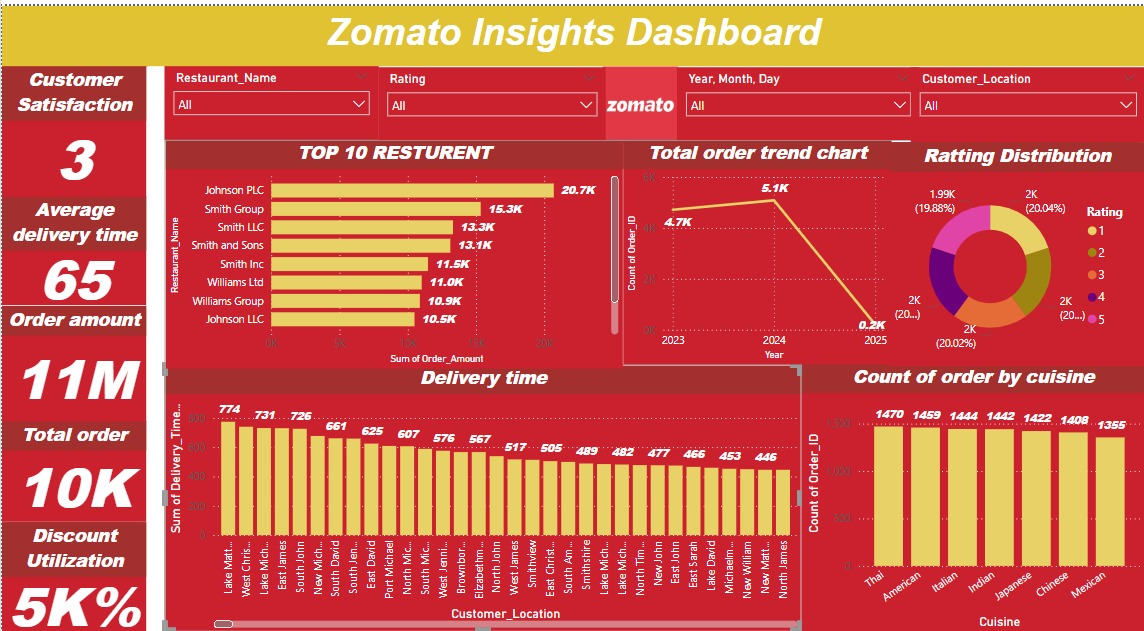

The dashboard page shown, as its layout file describes it:
{"tool":"powerbi","page":{"name":"Page 1","canvas":[1307,718],"ordinal":0},"visuals":[{"type":"actionButton","box":[0,0,100,40],"z":0},{"type":"card","title":"Total order","fields":{"Values":["CountNonNull(Sheet1.Order_ID)"]},"box":[0,474.5,165,115.2],"z":0,"group":"g1"},{"type":"lineChart","title":"Total order trend chart","fields":{"Category":["Sheet1.Order_Date.Variation.Date Hierarchy.Year"],"Y":["CountNonNull(Sheet1.Order_ID)"]},"box":[709.6,152.7,306.2,257.1],"z":1000,"group":"g2"},{"type":"card","title":"Average delivery time ","fields":{"Values":["Avg(Sheet1.Delivery_Time_Minutes)"]},"box":[0,217.1,165,125.2],"z":1000,"group":"g1"},{"type":"columnChart","title":"Delivery time","fields":{"Category":["Sheet1.Customer_Location"],"Y":["Sum(Sheet1.Delivery_Time_Minutes)"]},"box":[185.9,410.3,728.6,305.7],"z":1000,"group":"g3"},{"type":"slicer","fields":{"Values":["Sheet1.Restaurant_Name"]},"box":[185.7,68.6,244.3,84.3],"z":2000},{"type":"clusteredBarChart","title":"TOP 10 RESTURENT","fields":{"Category":["Sheet1.Restaurant_Name"],"Y":["Sum(Sheet1.Order_Amount)"]},"box":[187.3,152.7,522.3,261.4],"z":3000,"group":"g2"},{"type":"card","title":"Order amount","fields":{"Values":["Sum(Sheet1.Order_Amount)"]},"box":[0,342.2,165,132.3],"z":3000,"group":"g1"},{"type":"columnChart","title":"Count of order by cuisine","fields":{"Category":["Sheet1.Cuisine"],"Y":["CountNonNull(Sheet1.Order_ID)"]},"box":[915,408.3,391.7,308.3],"z":3000,"group":"g3"},{"type":"group","id":"g1","title":"Group 1","box":[0,68.3,165,650],"z":4000},{"type":"card","title":"Customer Satisfaction ","fields":{"Values":["Avg(Sheet1.Rating)"]},"box":[0,68.3,165,149.3],"z":4000,"group":"g1"},{"type":"image","box":[584.3,64.3,290,97.1],"z":5000},{"type":"card","title":"Discount Utilization","fields":{"Values":["Sheet1.Discount utilization"]},"box":[0,589.7,165,128],"z":5000,"group":"g1"},{"type":"group","id":"g2","title":"Group 2","box":[187.3,152.7,828.6,261.4],"z":6000,"group":"g3"},{"type":"group","id":"g3","title":"Group 3","box":[185.9,152.7,1120.8,564],"z":6001},{"type":"slicer","fields":{"Values":["Sheet1.Rating"]},"box":[430,70,260,82.9],"z":6002},{"type":"slicer","fields":{"Values":["Sheet1.Review_Date.Variation.Date Hierarchy.Year","Sheet1.Review_Date.Variation.Date Hierarchy.Month","Sheet1.Review_Date.Variation.Date Hierarchy.Day"]},"box":[771.4,70,277.1,82.9],"z":6003},{"type":"slicer","fields":{"Values":["Sheet1.Customer_Location"]},"box":[1038.6,70,268.6,85.7],"z":6004},{"type":"textbox","title":"ZOMATO","box":[1.7,5,165,63.3],"z":6005},{"type":"donutChart","title":"Ratting Distribution","fields":{"Y":["CountNonNull(Sheet1.Order_ID)"],"Series":["Sheet1.Rating"]},"box":[1014.3,155.7,291.4,255.7],"z":6006},{"type":"textbox","title":"Zomato Insights Dashboard","box":[0,0,1305.7,68.6],"z":6007}]}

Visuals, with their boxes in screenshot pixels (x1, y1, x2, y2), scaled from the page's 1307x718 canvas onto the 1144x631 screenshot:
actionButton: [0,0,88,35]
"Total order" card: [0,417,144,518]
"Total order trend chart" lineChart: [621,134,889,360]
"Average delivery time " card: [0,191,144,301]
"Delivery time" columnChart: [163,361,800,629]
slicer - Sheet1.Restaurant_Name: [163,60,376,134]
"TOP 10 RESTURENT" clusteredBarChart: [164,134,621,364]
"Order amount" card: [0,301,144,417]
"Count of order by cuisine" columnChart: [801,359,1143,630]
"Group 1" group: [0,60,144,630]
"Customer Satisfaction " card: [0,60,144,191]
image: [511,57,765,142]
"Discount Utilization" card: [0,518,144,630]
"Group 2" group: [164,134,889,364]
"Group 3" group: [163,134,1143,630]
slicer - Sheet1.Rating: [376,62,604,134]
slicer - Sheet1.Review_Date.Variation.Date Hierarchy.Year x Sheet1.Review_Date.Variation.Date Hierarchy.Month: [675,62,918,134]
slicer - Sheet1.Customer_Location: [909,62,1143,137]
"ZOMATO" textbox: [1,4,146,60]
"Ratting Distribution" donutChart: [888,137,1143,362]
"Zomato Insights Dashboard" textbox: [0,0,1143,60]
